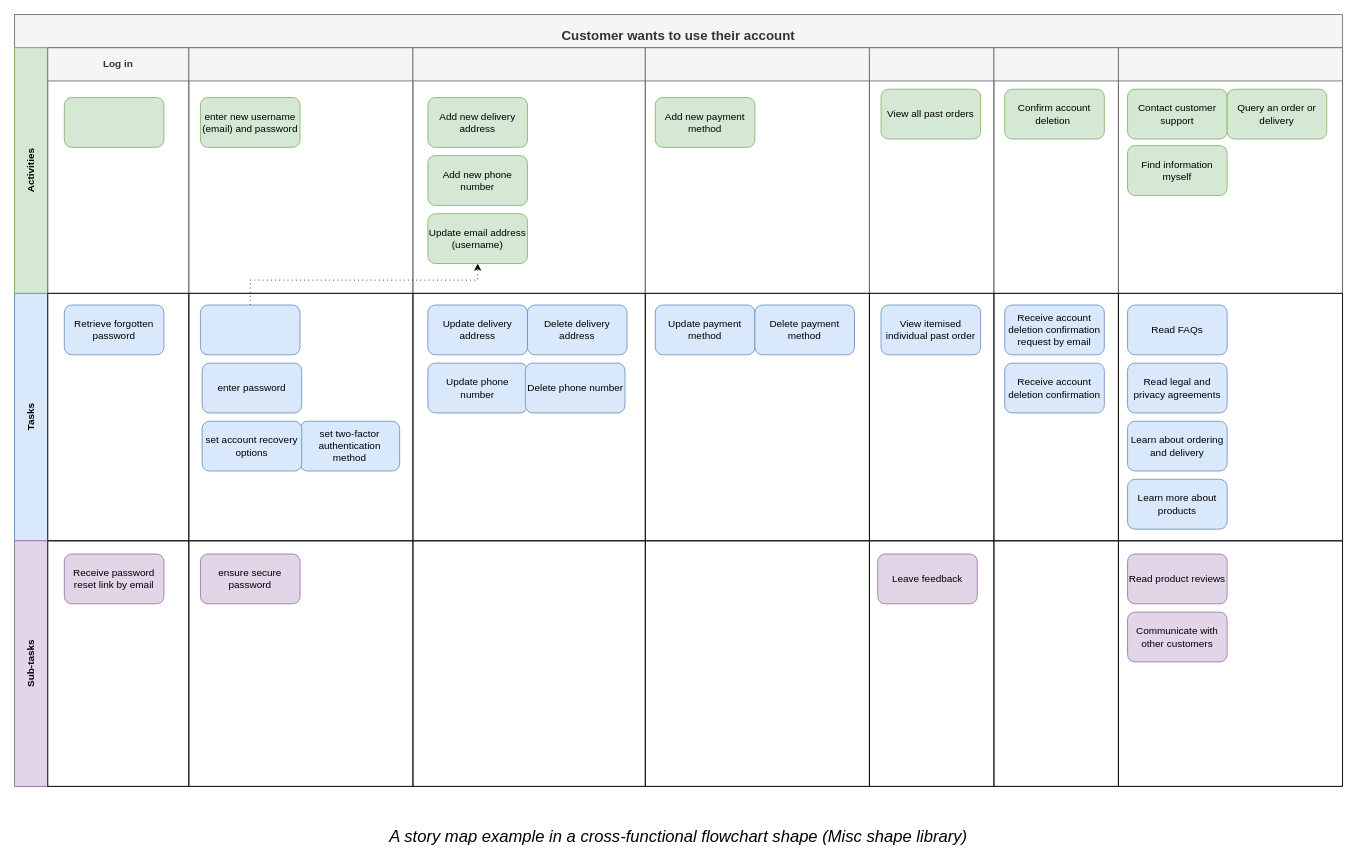
Image size: 1357x861. Some labels were removed from this diagram. The shapes that lost their labels are listed below. From the top down, each one's box as (x1, y1, x2, y2) in pixels, then its label:
(63, 97, 164, 147): Enter username and password
(188, 47, 413, 293): Create a new account
(412, 47, 645, 293): Update contact details
(644, 47, 869, 293): Update payment details
(869, 47, 994, 293): Review past orders
(993, 47, 1118, 293): Delete account
(1118, 47, 1343, 293): Get help
(200, 304, 300, 355): enter unique username (email)
